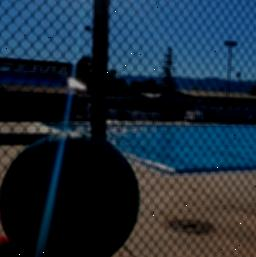algae: (0, 135, 138, 257)
